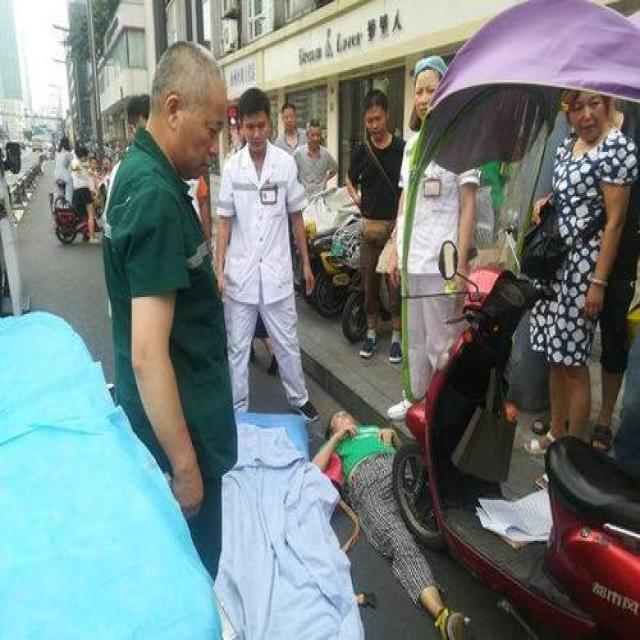10-: (40, 4, 636, 638)
down: (311, 406, 471, 635)
